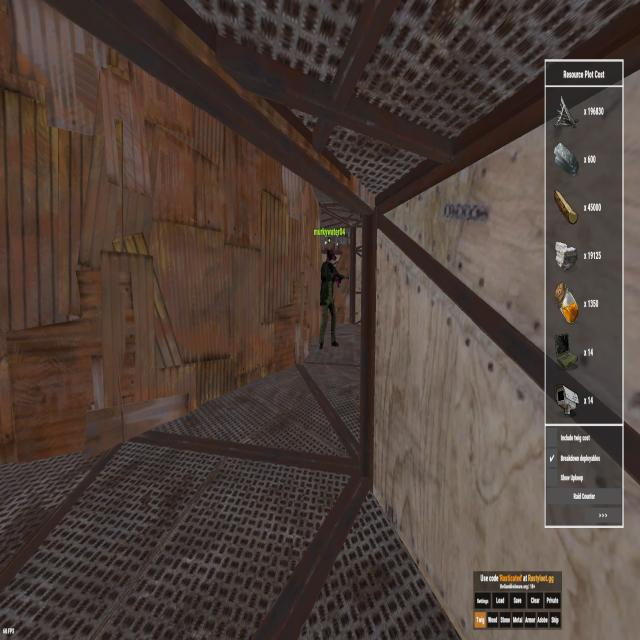Player: (318, 245, 343, 354)
